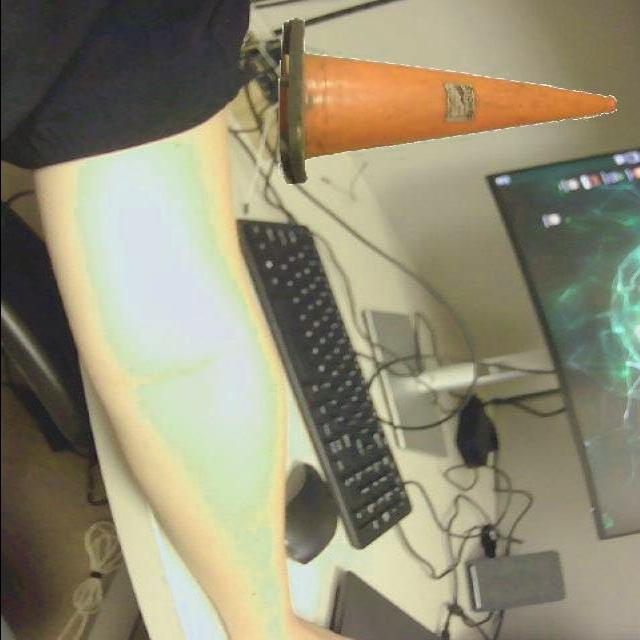traffic cone: (268, 16, 625, 194)
